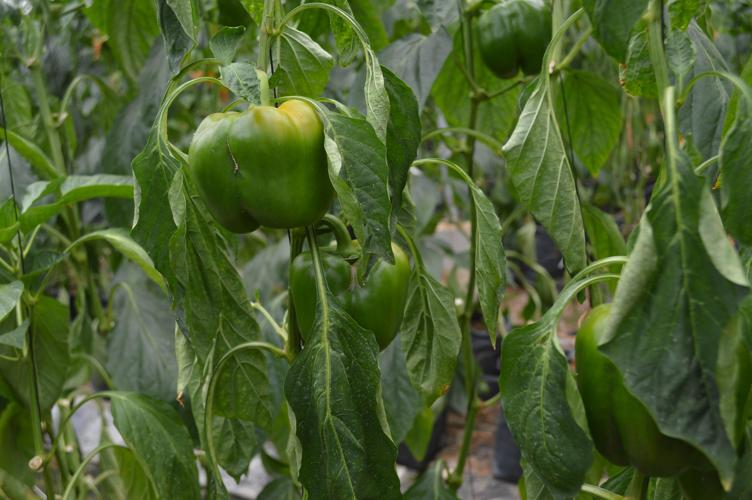BellPepper: (571, 309, 689, 476), (187, 99, 329, 223), (288, 243, 413, 351), (469, 1, 550, 78)
